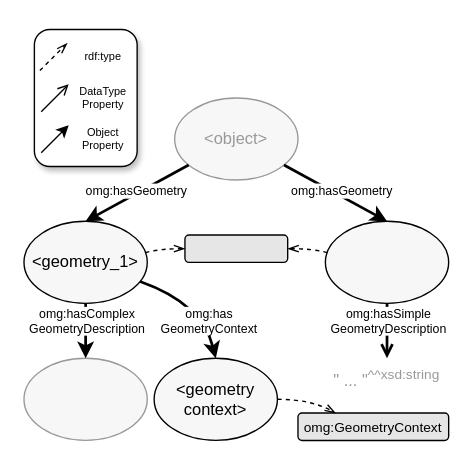
Some shapes in this 473 by 464 pixel diagram are drawn without their labels. The shapes that lost their labels are listed below. From the top down, each one's centre as x and y in pixels, then its label:
At (236,248): "omg:Geometry".
At (386,261): "<geometry_2>".
At (85,398): "<geometry description>".
